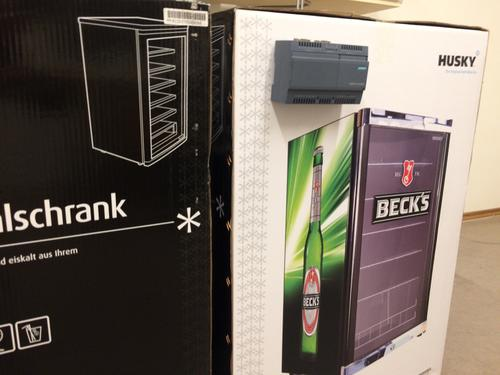iot2000: (271, 38, 371, 106)
